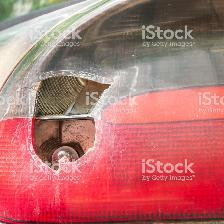broken_light: (10, 21, 154, 219)
